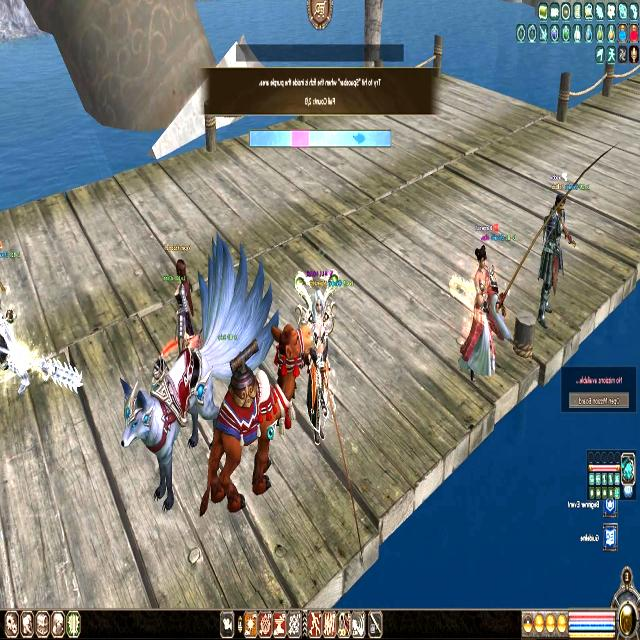fishes: (354, 131, 366, 145)
